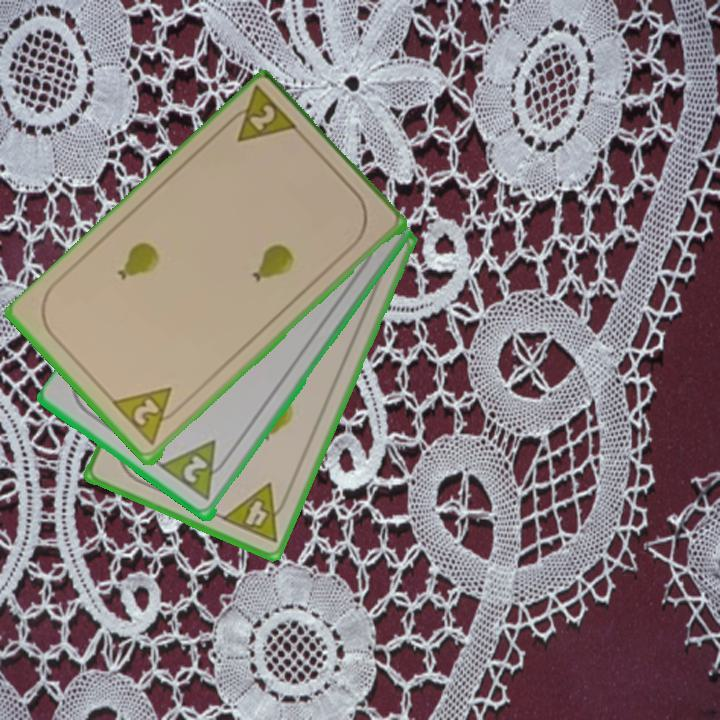2p: (219, 84, 303, 147), (158, 437, 236, 504), (110, 384, 186, 449)
4p: (218, 479, 294, 546)
